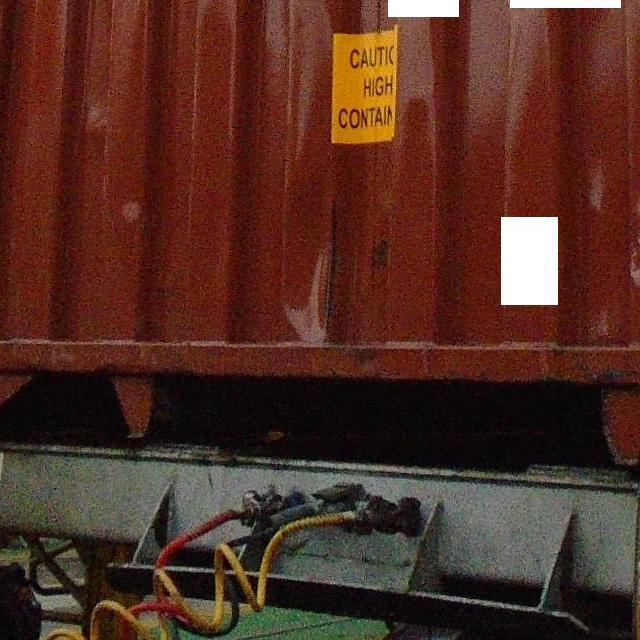dent: (278, 202, 348, 339)
